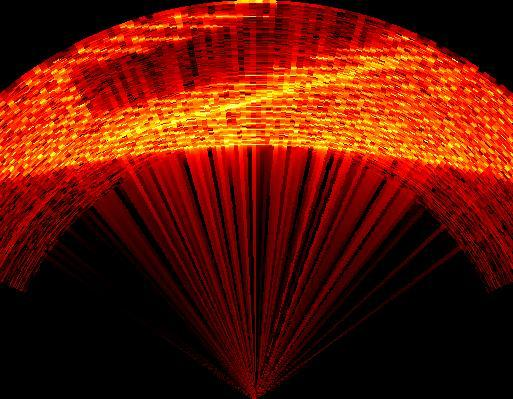pipe: (73, 0, 388, 117)
